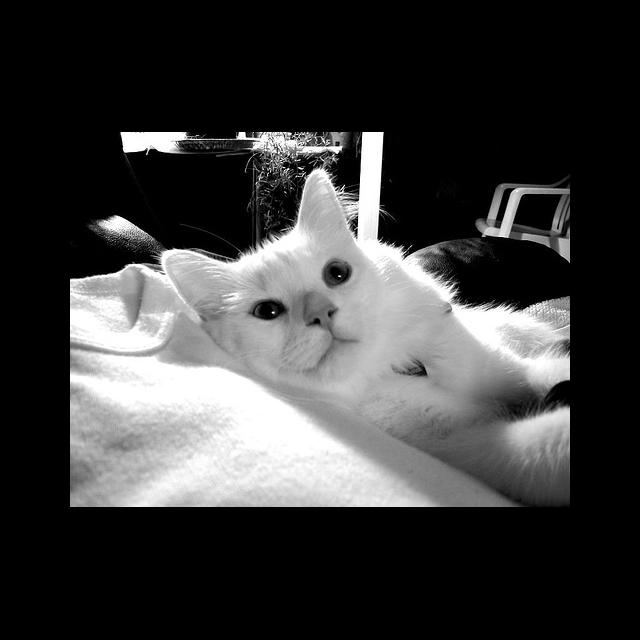animals: (166, 172, 352, 326)
